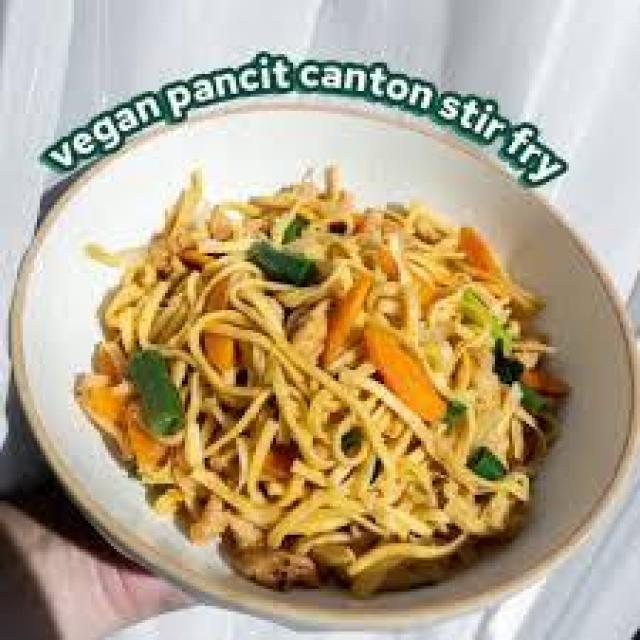pancit bihon: (121, 160, 526, 586)
